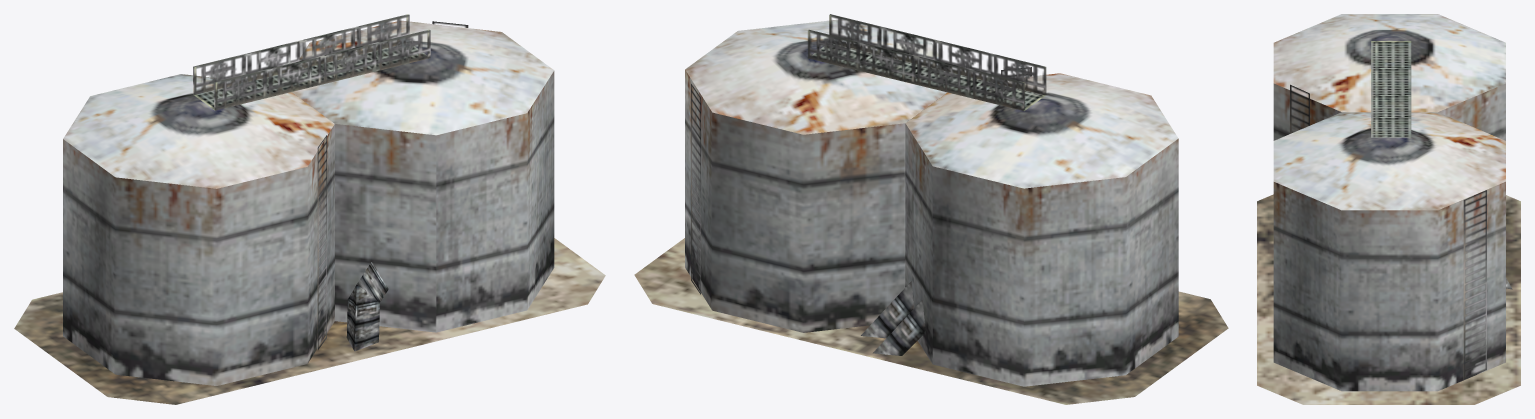
The model's file is Civilian - Civilian Building - Stan Oil Tank 01 - CBTOilTnk1.glb.
3 renders of one model, left to right at view 1: azimuth 30°, elevation 25°; view 2: azimuth 150°, elevation 25°; view 3: azimuth 270°, elevation 25°, orthographic. The views are drawn at different scales.
Visible parts, largest first — view 1: CBTOILTNK1; view 2: CBTOILTNK1; view 3: CBTOILTNK1.
Boxes of the visible parts, x1,y1,x2,y2 form: CBTOILTNK1: (14,14,605,404); CBTOILTNK1: (634,14,1228,404); CBTOILTNK1: (1257,14,1520,404).
Size of the model in its own units: 80 by 39.5 by 40.
Materials: 1 (1 with a texture image).
